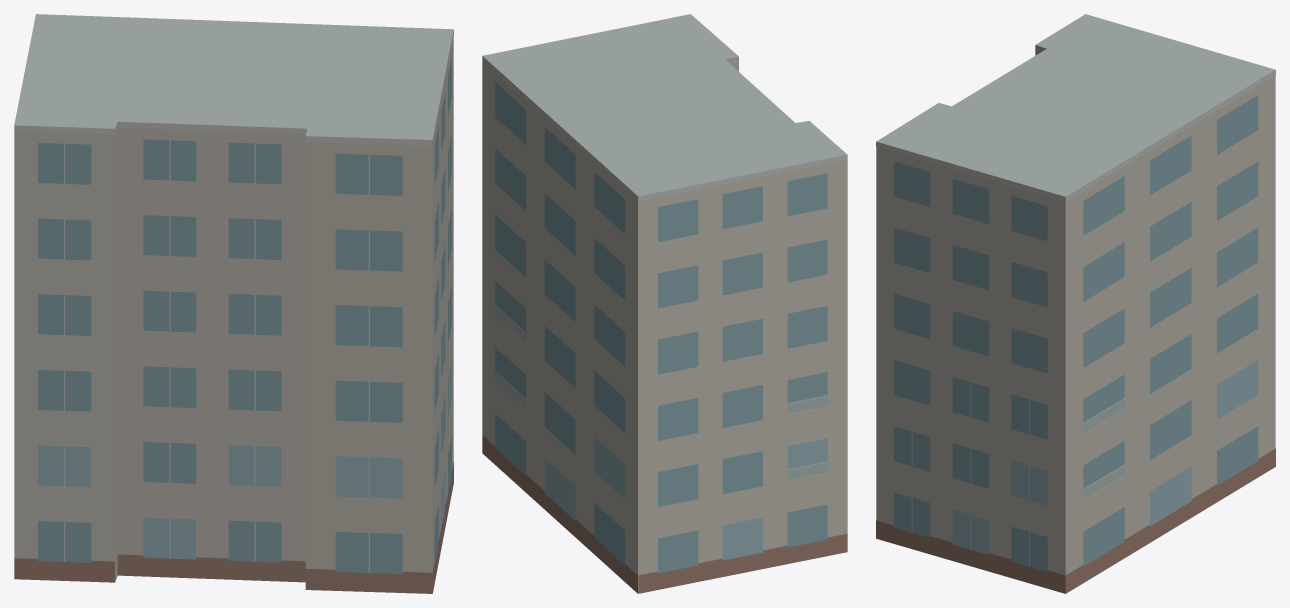
The model's file is survey-upis-33033468.glb.
3 views of the same model, side by side, from view 1: azimuth 30°, elevation 25°; view 2: azimuth 150°, elevation 25°; view 3: azimuth 270°, elevation 25° (orthographic). The views are drawn at different scales.
Visible parts, largest first — view 1: survey-upis-33033468.tmp; view 2: survey-upis-33033468.tmp; view 3: survey-upis-33033468.tmp.
Part boxes in pixels (x1=…): survey-upis-33033468.tmp: x1=14, y1=14, x2=453, y2=593; survey-upis-33033468.tmp: x1=482, y1=14, x2=847, y2=593; survey-upis-33033468.tmp: x1=876, y1=14, x2=1275, y2=593.
Size of the model in its own units: 18.37 by 18.6 by 16.97.
